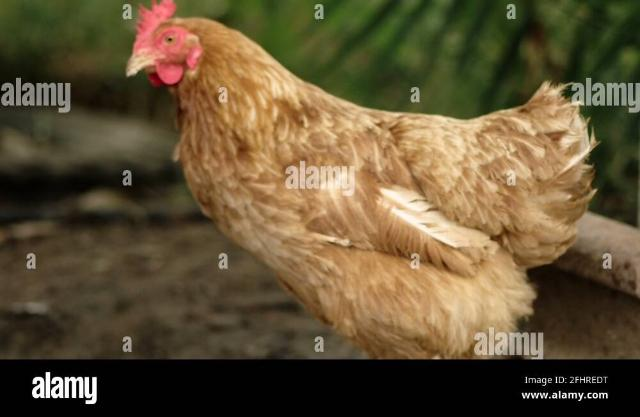Chicken: (125, 0, 596, 360)
